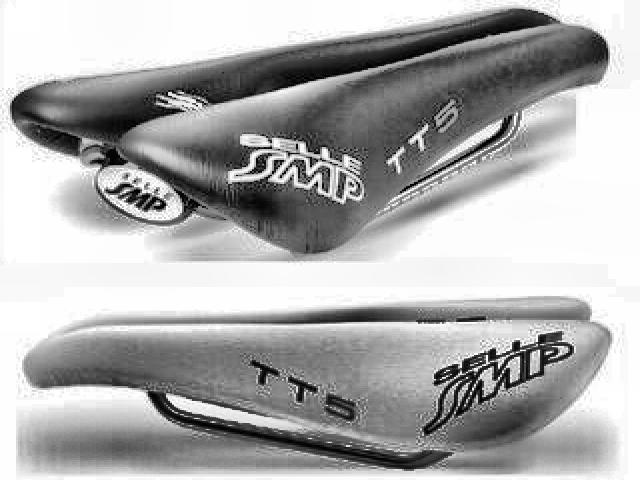saddle: (3, 6, 610, 263), (20, 292, 618, 468)
